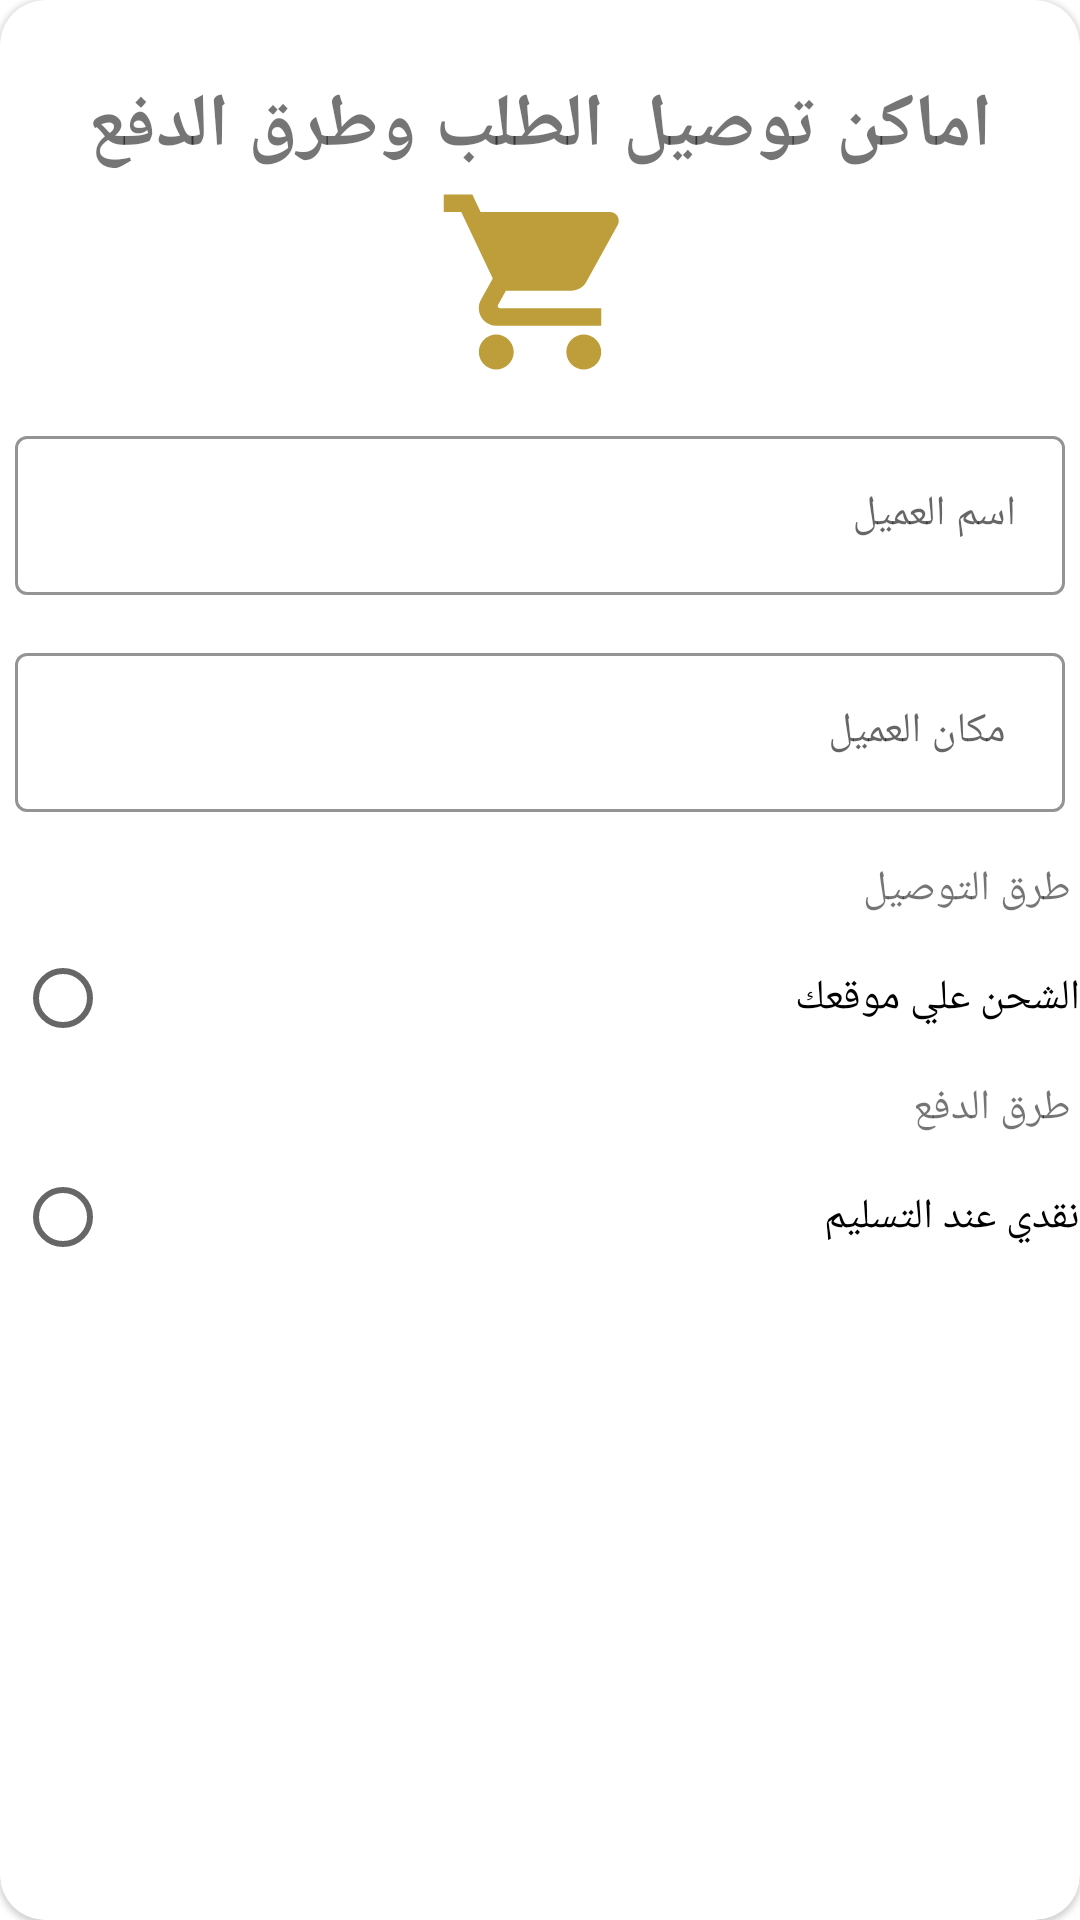

Point at icon controls on the screen. Image size 1080 x 1920, points as (x,y).
shopping cart: (531,282)
